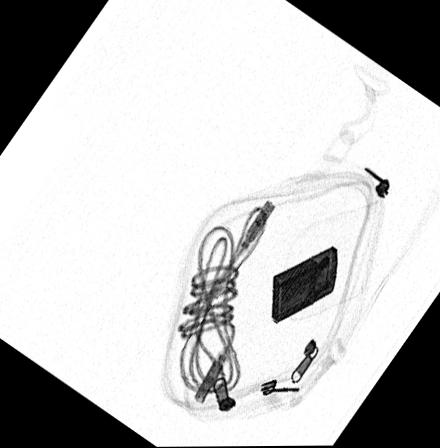Lighter: (269, 245, 338, 323)
